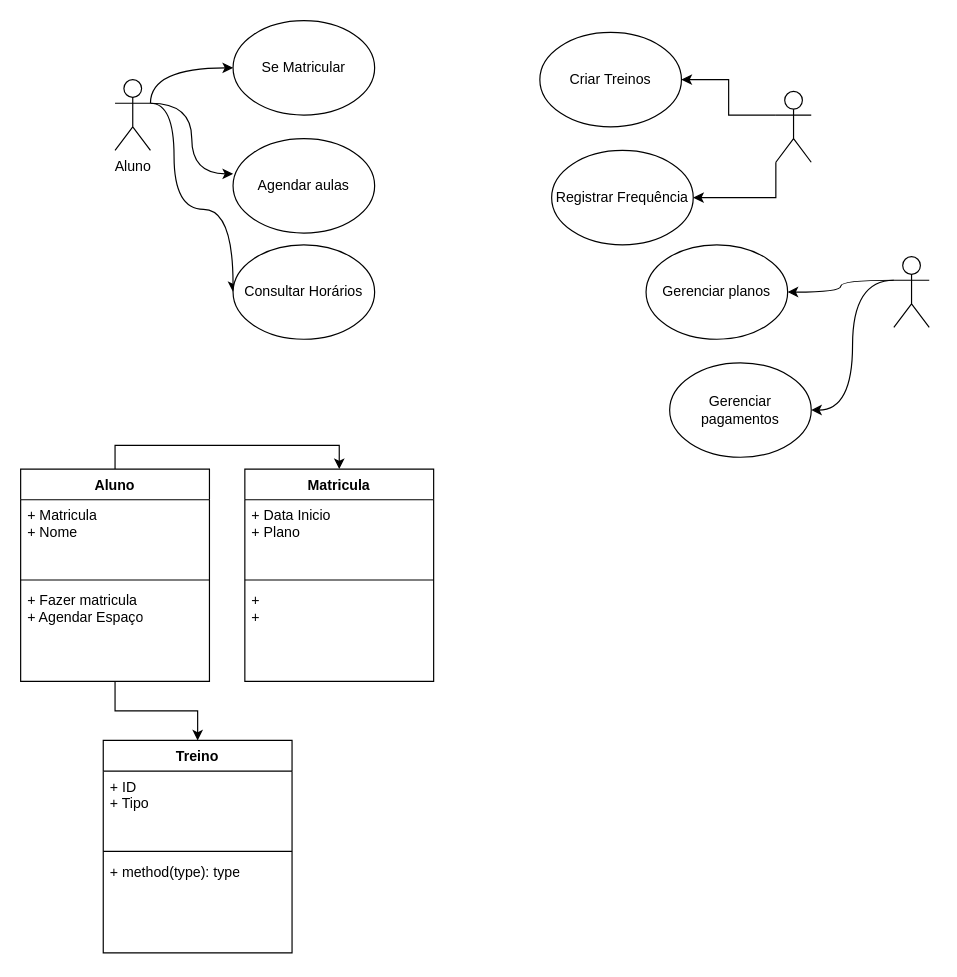
This 957x977 diagram has some shape labels left out. Here are the shapes that lost their labels. From the top down, the centre of each, then its label:
point 793,126: Instrutor
point 911,291: Gerente
